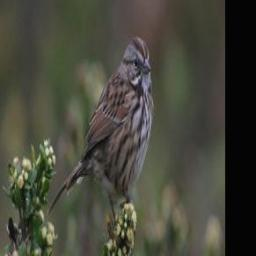Sparrow: (47, 34, 157, 242)
